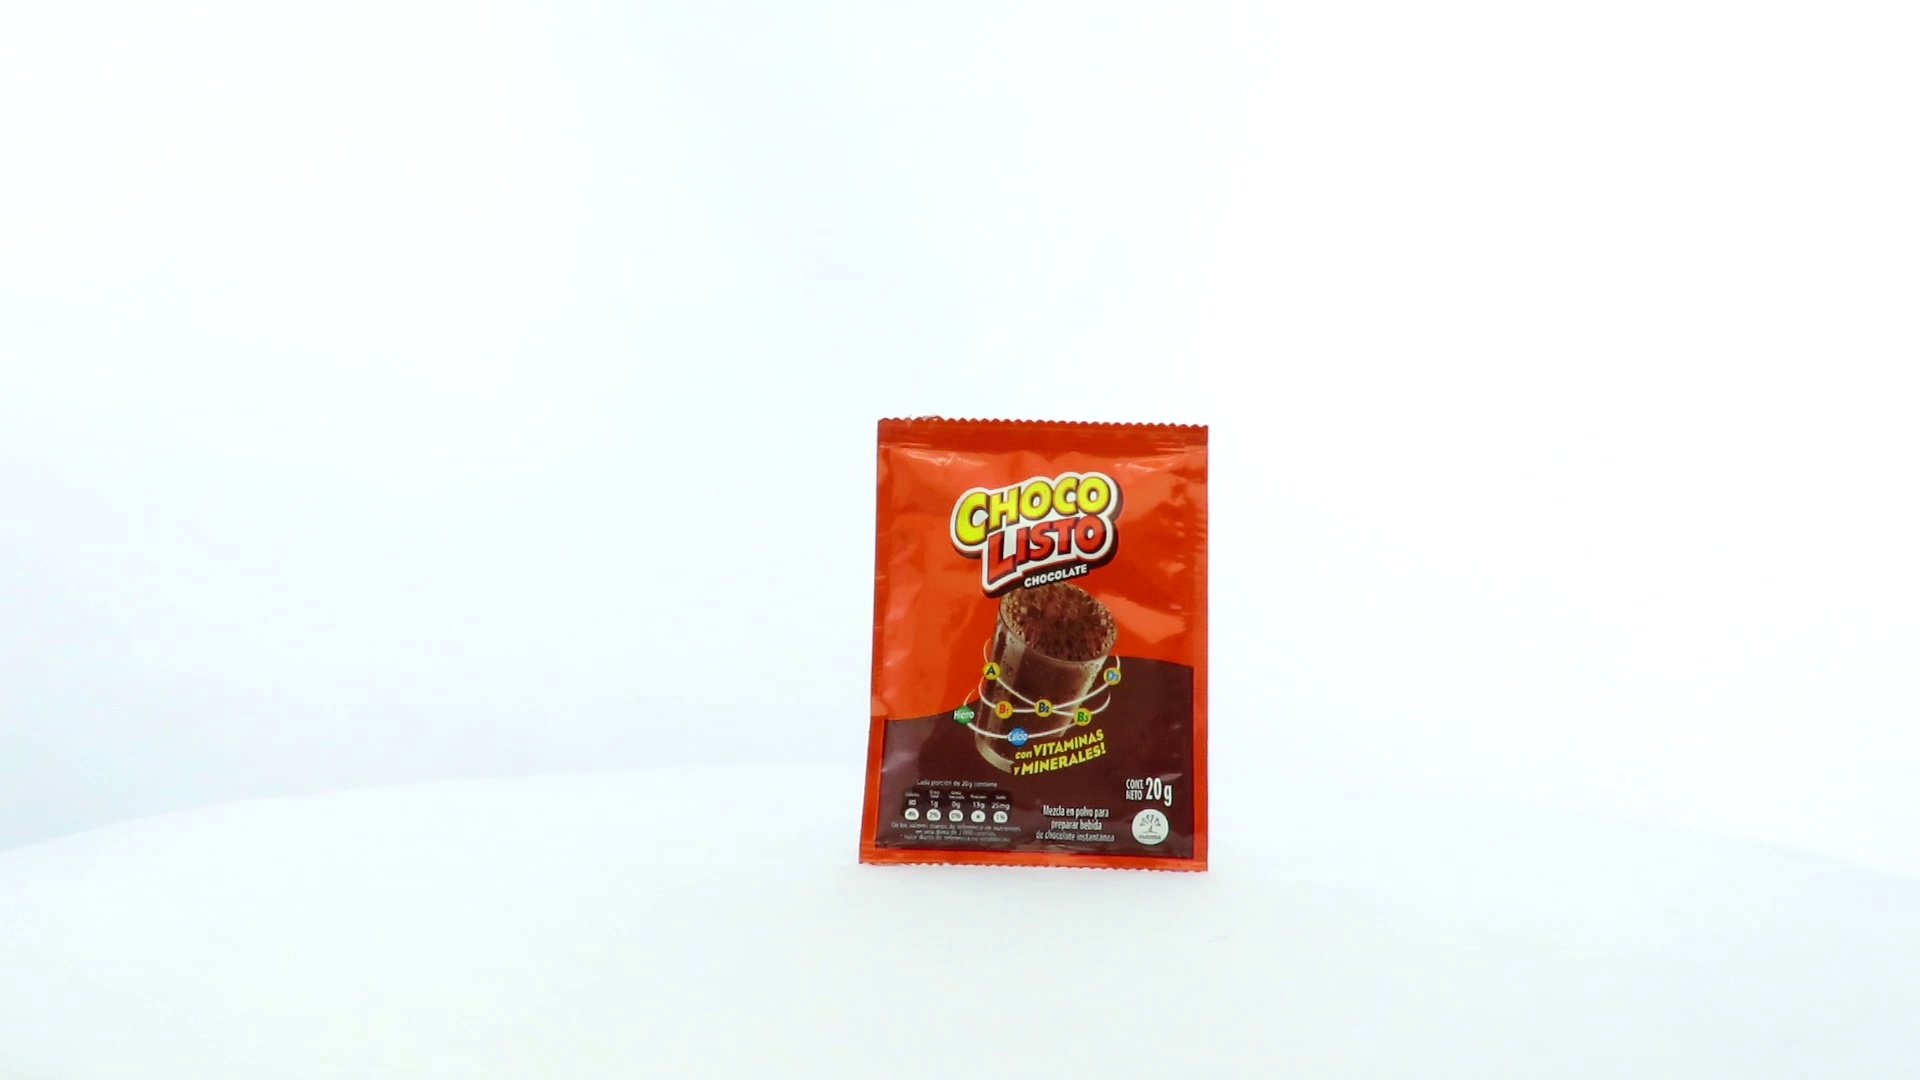COL0170103SOB02000: (853, 409, 1215, 880)
